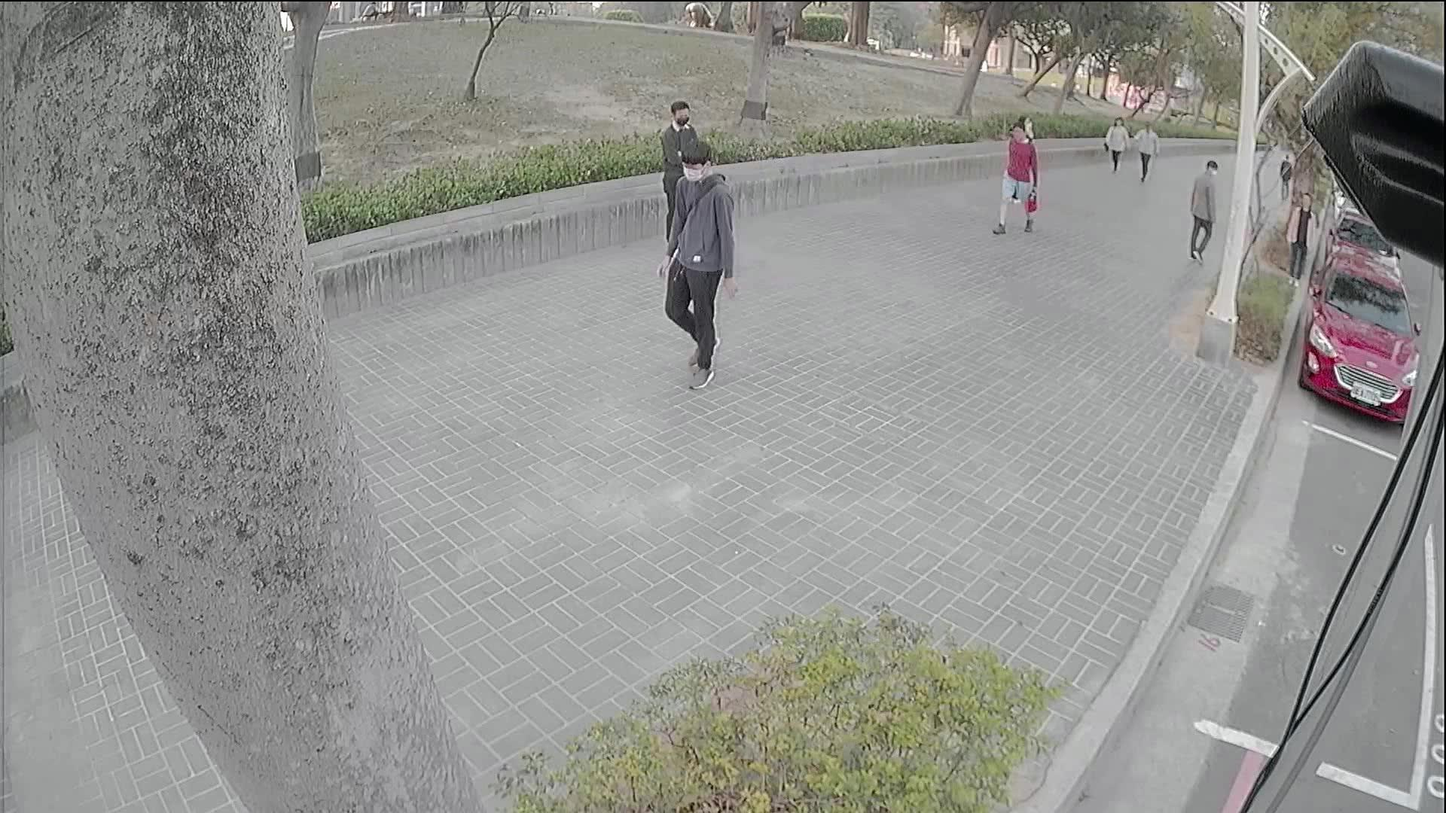person: (658, 144, 733, 386), (995, 122, 1038, 232), (1185, 159, 1216, 262), (1283, 191, 1315, 286), (660, 100, 690, 174), (1133, 114, 1151, 179), (1103, 118, 1122, 174), (1020, 111, 1036, 139)
